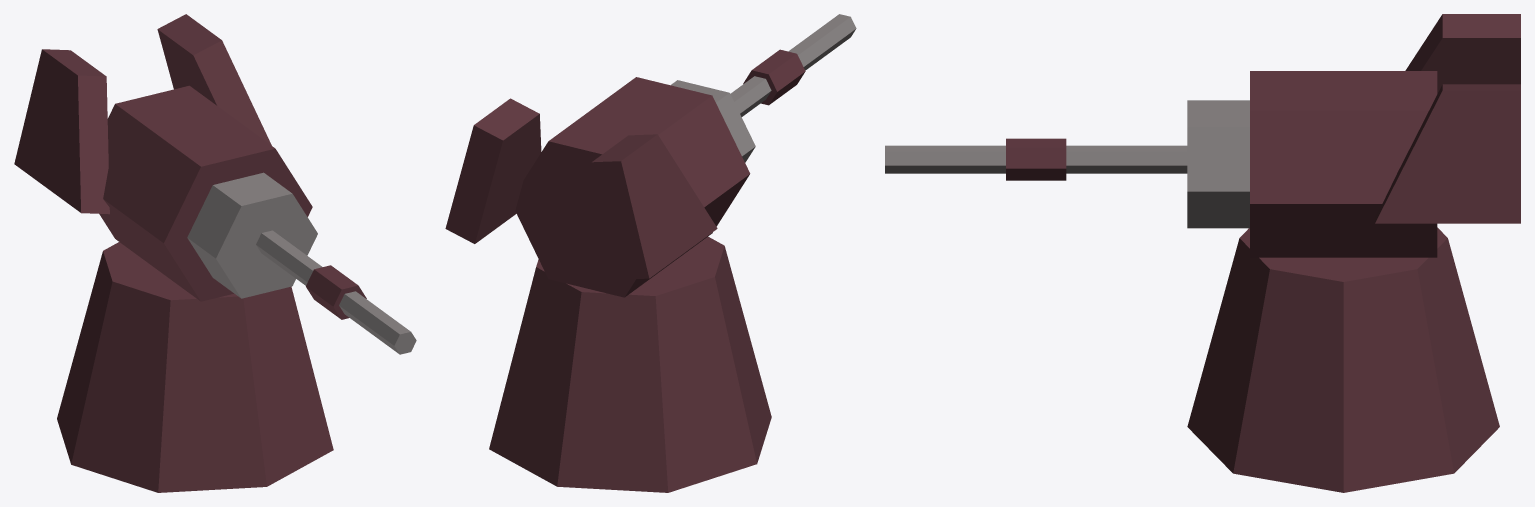
The model's file is scifi-turret-head-laser-small.fbx.
3 renders of one model, left to right at view 1: azimuth 30°, elevation 25°; view 2: azimuth 150°, elevation 25°; view 3: azimuth 270°, elevation 25°, orthographic. The views are drawn at different scales.
Visible parts, largest first — view 1: scifi-turret-head-laser-small; view 2: scifi-turret-head-laser-small; view 3: scifi-turret-head-laser-small.
Boxes of the visible parts, x1=… form: scifi-turret-head-laser-small: x1=14, y1=14, x2=416, y2=492; scifi-turret-head-laser-small: x1=445, y1=14, x2=856, y2=492; scifi-turret-head-laser-small: x1=885, y1=14, x2=1520, y2=492.
Size of the model in its own units: 0.6 by 0.7931 by 1.22.
